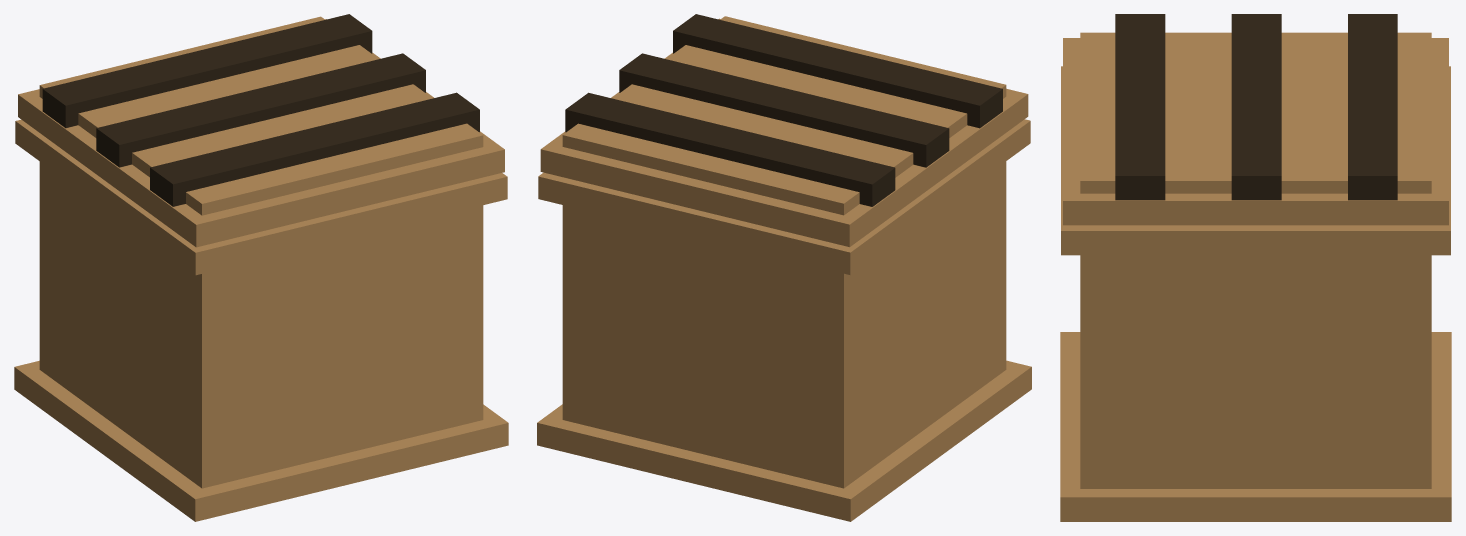
File: OBSTACLE - BOX.fbx
3 views of the same model, side by side, from view 1: azimuth 30°, elevation 25°; view 2: azimuth 150°, elevation 25°; view 3: azimuth 270°, elevation 25° (orthographic). The views are drawn at different scales.
Visible parts, largest first — view 1: Cube_2_4, Cube_2_3, Cube_1, Cube_3, Cube_2_2, Cube, Cube_2; view 2: Cube_2_4, Cube_2_3, Cube_1, Cube_3, Cube_2_2, Cube_2, Cube; view 3: Cube_2_4, Cube_2_3, Cube_1, Cube_3, Cube, Cube_2, Cube_2_2.
Boxes of the visible parts, x1,y1,x2,y2 form: Cube_2_4: (39, 16, 483, 488); Cube_2_3: (14, 360, 508, 521); Cube_1: (18, 19, 504, 247); Cube_3: (15, 119, 507, 275); Cube_2_2: (42, 14, 372, 128); Cube: (150, 92, 479, 206); Cube_2: (96, 53, 425, 167); Cube_2_4: (562, 16, 1006, 488); Cube_2_3: (537, 360, 1031, 521); Cube_1: (540, 18, 1028, 247); Cube_3: (538, 119, 1030, 275); Cube_2_2: (565, 92, 895, 206); Cube_2: (619, 53, 949, 167); Cube: (673, 14, 1002, 128); Cube_2_4: (1080, 32, 1431, 488); Cube_2_3: (1060, 332, 1451, 521); Cube_1: (1063, 38, 1448, 225); Cube_3: (1061, 66, 1450, 255); Cube: (1115, 14, 1165, 200); Cube_2: (1231, 14, 1281, 200); Cube_2_2: (1348, 14, 1397, 200).
Size of the model in its own units: 223 by 216 by 223.
